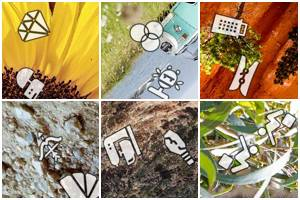thing: (219, 133, 262, 178), (227, 50, 265, 100), (158, 125, 197, 170), (104, 123, 144, 166), (257, 107, 297, 150), (12, 8, 57, 46), (143, 63, 187, 101), (127, 18, 168, 56), (32, 127, 69, 166), (206, 12, 253, 42), (15, 65, 48, 99), (61, 170, 98, 198)
